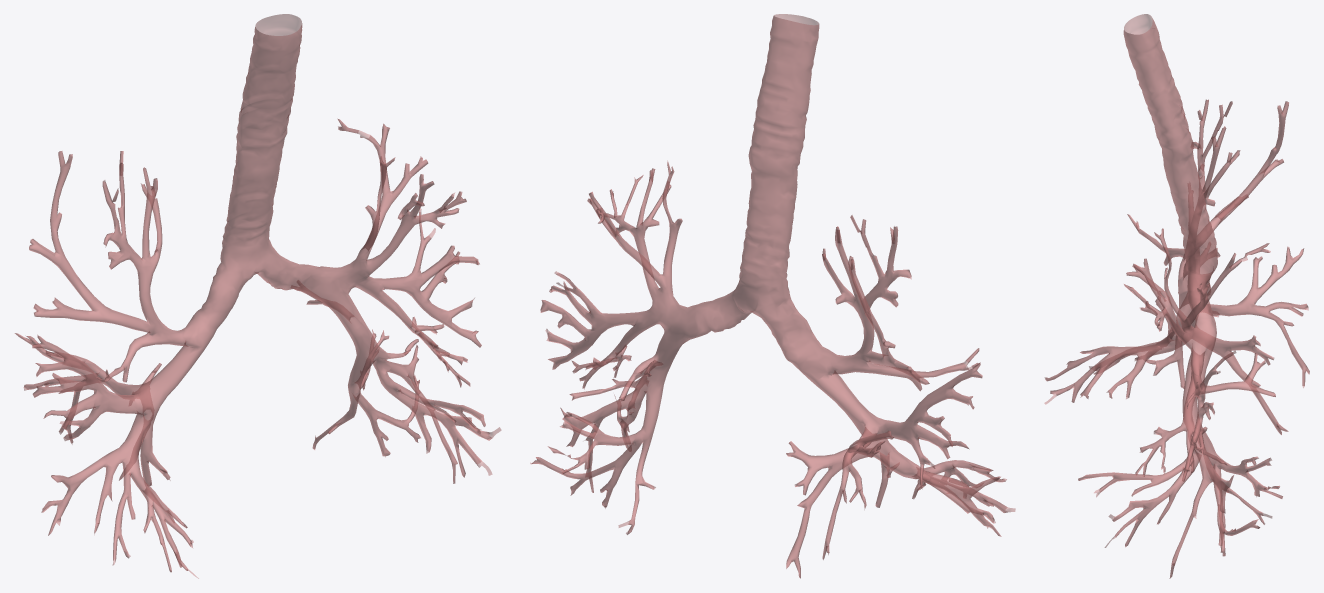
File: organ-lungs-nih.glb
The picture shows the model from 3 angles, left to right: view 1: azimuth 30°, elevation 25°; view 2: azimuth 150°, elevation 25°; view 3: azimuth 270°, elevation 25°; orthographic projection. The views are drawn at different scales.
Visible parts, largest first — view 1: bronchiShape; view 2: bronchiShape; view 3: bronchiShape.
Boxes of the visible parts, <box> form: bronchiShape: <box>14,14,501,578</box>; bronchiShape: <box>530,14,1015,578</box>; bronchiShape: <box>1044,14,1309,578</box>.
Bounding box in the file's own units: 20.43 × 22.73 × 11.58.
